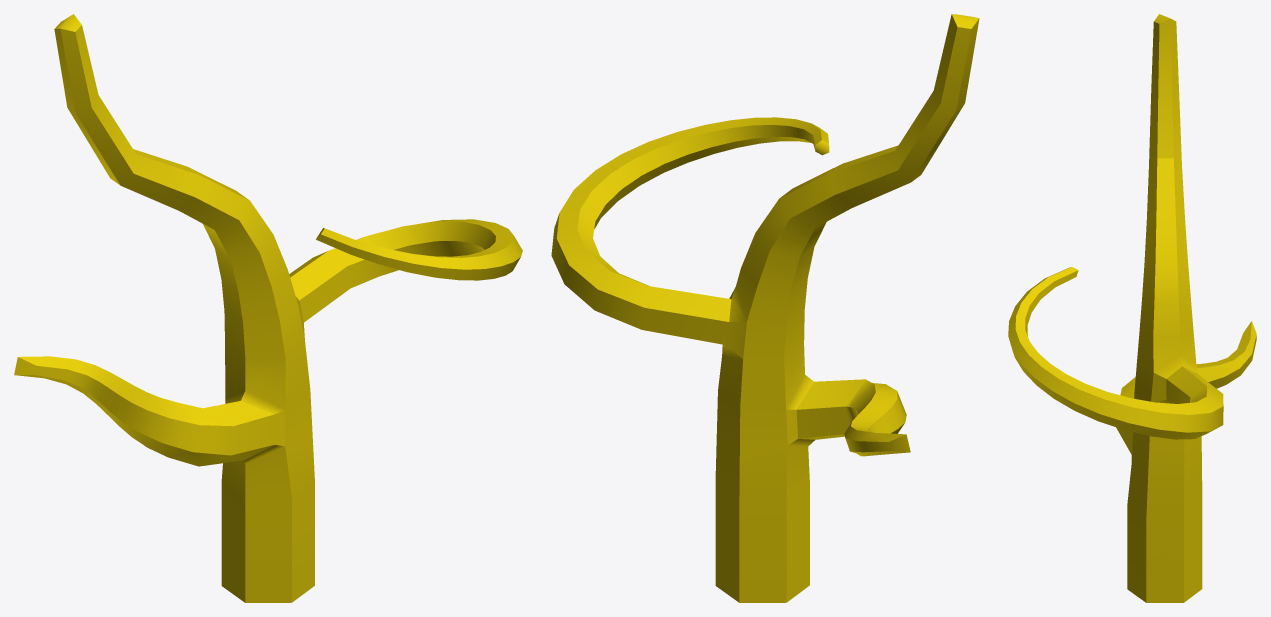
The model's file is deadTreeMed.fbx.
The picture shows the model from 3 angles, left to right: view 1: azimuth 30°, elevation 25°; view 2: azimuth 150°, elevation 25°; view 3: azimuth 270°, elevation 25°; orthographic projection. The views are drawn at different scales.
Parts seen in each view (by area): view 1: tree1; view 2: tree1; view 3: tree1.
Part boxes in pixels (bbox=[...]): tree1: bbox=[14, 14, 522, 602]; tree1: bbox=[551, 14, 979, 602]; tree1: bbox=[1008, 14, 1256, 602].
Size of the model in its own units: 2.09 by 2.89 by 1.32.
